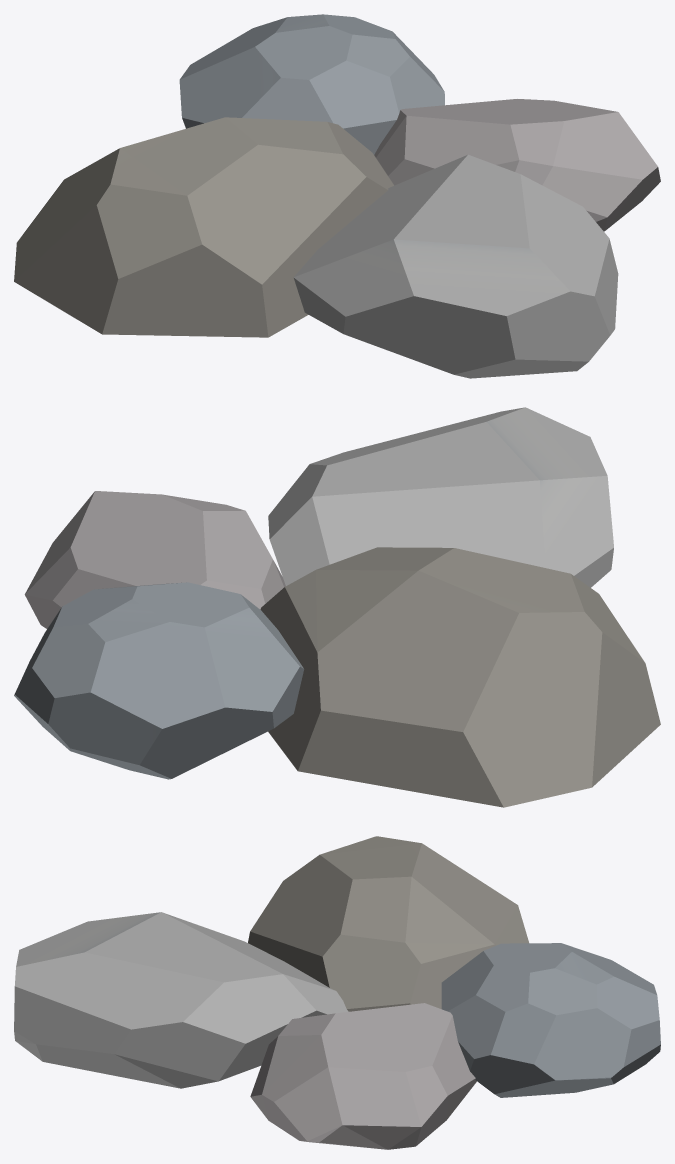
The model's file is Rocks_Round_m_04.fbx.
3 views of the same model, one above another, from view 1: azimuth 30°, elevation 25°; view 2: azimuth 150°, elevation 25°; view 3: azimuth 270°, elevation 25° (orthographic). The views are drawn at different scales.
Parts seen in each view (by area): view 1: Rocks_Round_m_04; view 2: Rocks_Round_m_04; view 3: Rocks_Round_m_04.
Part boxes in pixels (x1,y1,x2,y2): Rocks_Round_m_04: (14,14,660,378); Rocks_Round_m_04: (14,407,660,807); Rocks_Round_m_04: (14,836,660,1149).
Size of the model in its own units: 225 by 53.92 by 251.
